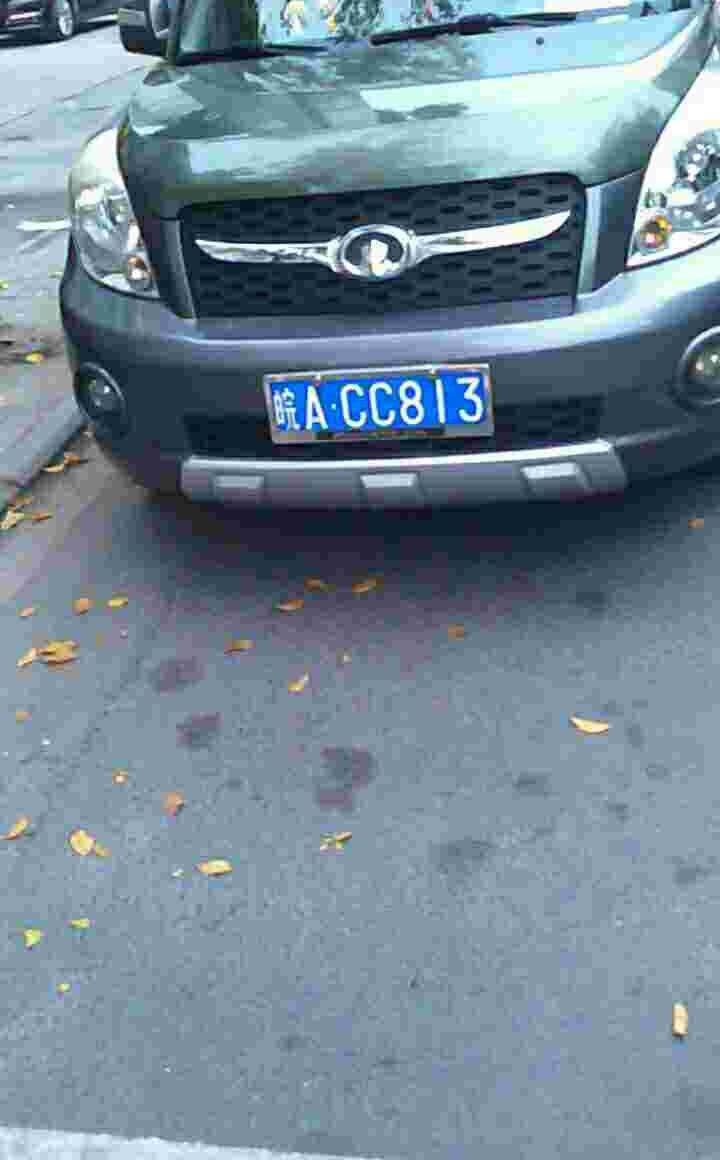license_plate: (273, 373, 493, 439)
